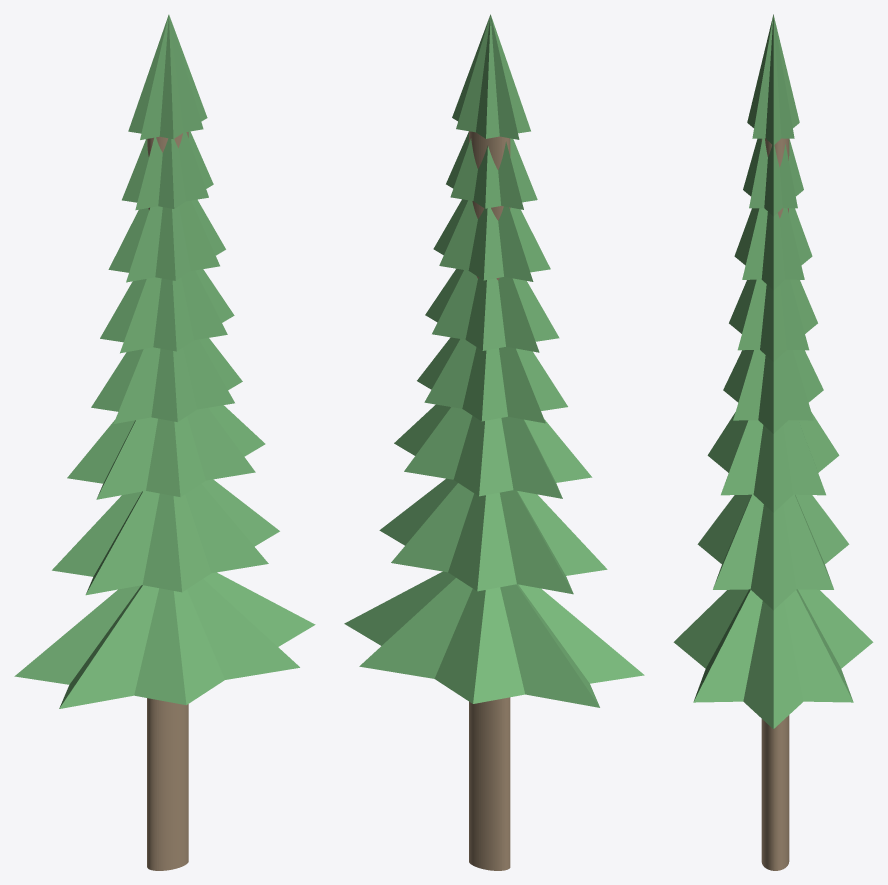
Rendered from Surprising Bigery.glb.
The picture shows the model from 3 angles, left to right: view 1: azimuth 30°, elevation 25°; view 2: azimuth 150°, elevation 25°; view 3: azimuth 270°, elevation 25°; orthographic projection.
Visible parts, largest first — view 1: Mesh_Mesh_head_geo.001_lambert2SG.001; view 2: Mesh_Mesh_head_geo.001_lambert2SG.001; view 3: Mesh_Mesh_head_geo.001_lambert2SG.001.
Boxes of the visible parts, <box> form: Mesh_Mesh_head_geo.001_lambert2SG.001: <box>14,14,315,870</box>; Mesh_Mesh_head_geo.001_lambert2SG.001: <box>344,14,644,870</box>; Mesh_Mesh_head_geo.001_lambert2SG.001: <box>673,14,873,870</box>.
Bounding box in the file's own units: 0.069 × 0.201 × 0.043.
